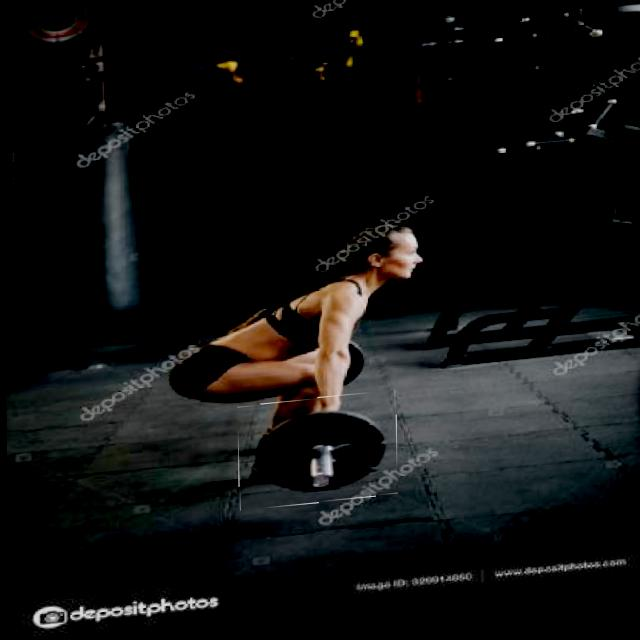barbell: (238, 399, 397, 516)
